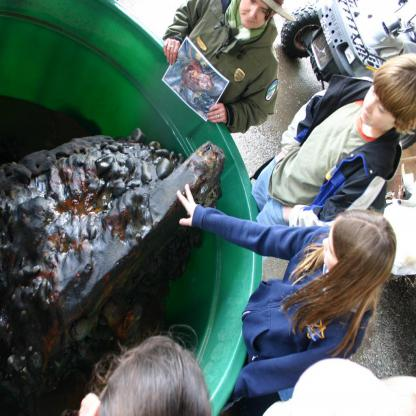face: (364, 74, 399, 127), (244, 2, 273, 28)
